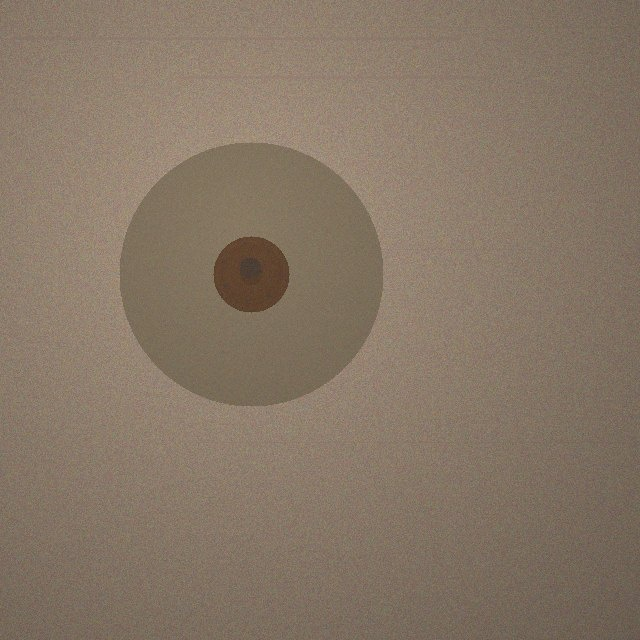cold_weld: (119, 142, 383, 406)
